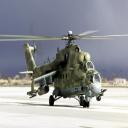helicopter: (1, 33, 128, 109)
